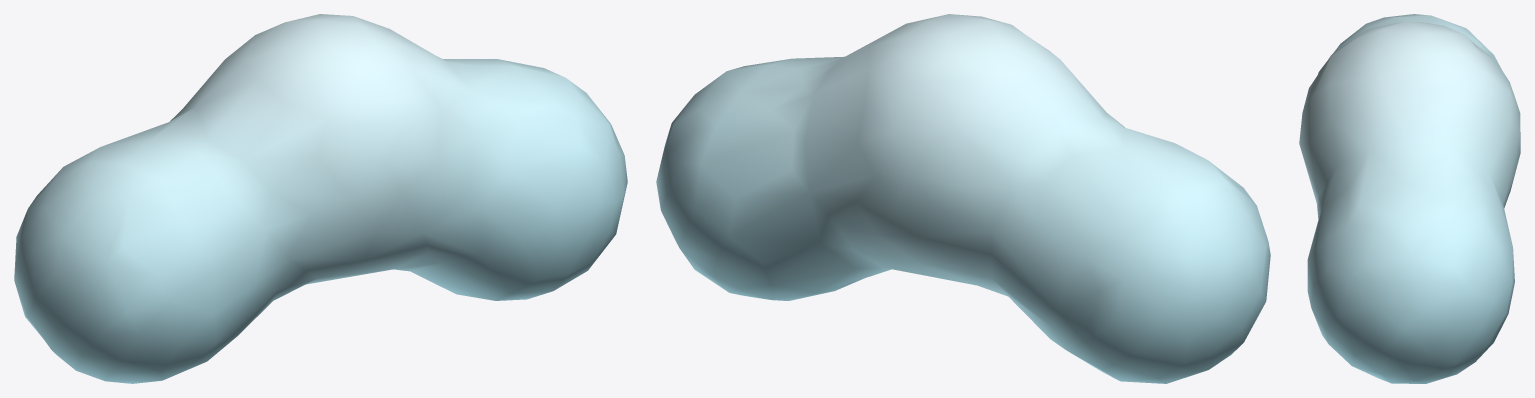
The model's file is cloud_2.fbx.
3 views of the same model, side by side, from view 1: azimuth 30°, elevation 25°; view 2: azimuth 150°, elevation 25°; view 3: azimuth 270°, elevation 25° (orthographic). The views are drawn at different scales.
Parts seen in each view (by area): view 1: cloud_2; view 2: cloud_2; view 3: cloud_2.
Boxes of the visible parts, bbox=[...] form: cloud_2: bbox=[14, 14, 627, 383]; cloud_2: bbox=[656, 14, 1270, 383]; cloud_2: bbox=[1299, 14, 1520, 383].
Size of the model in its own units: 327 by 164 by 125.
